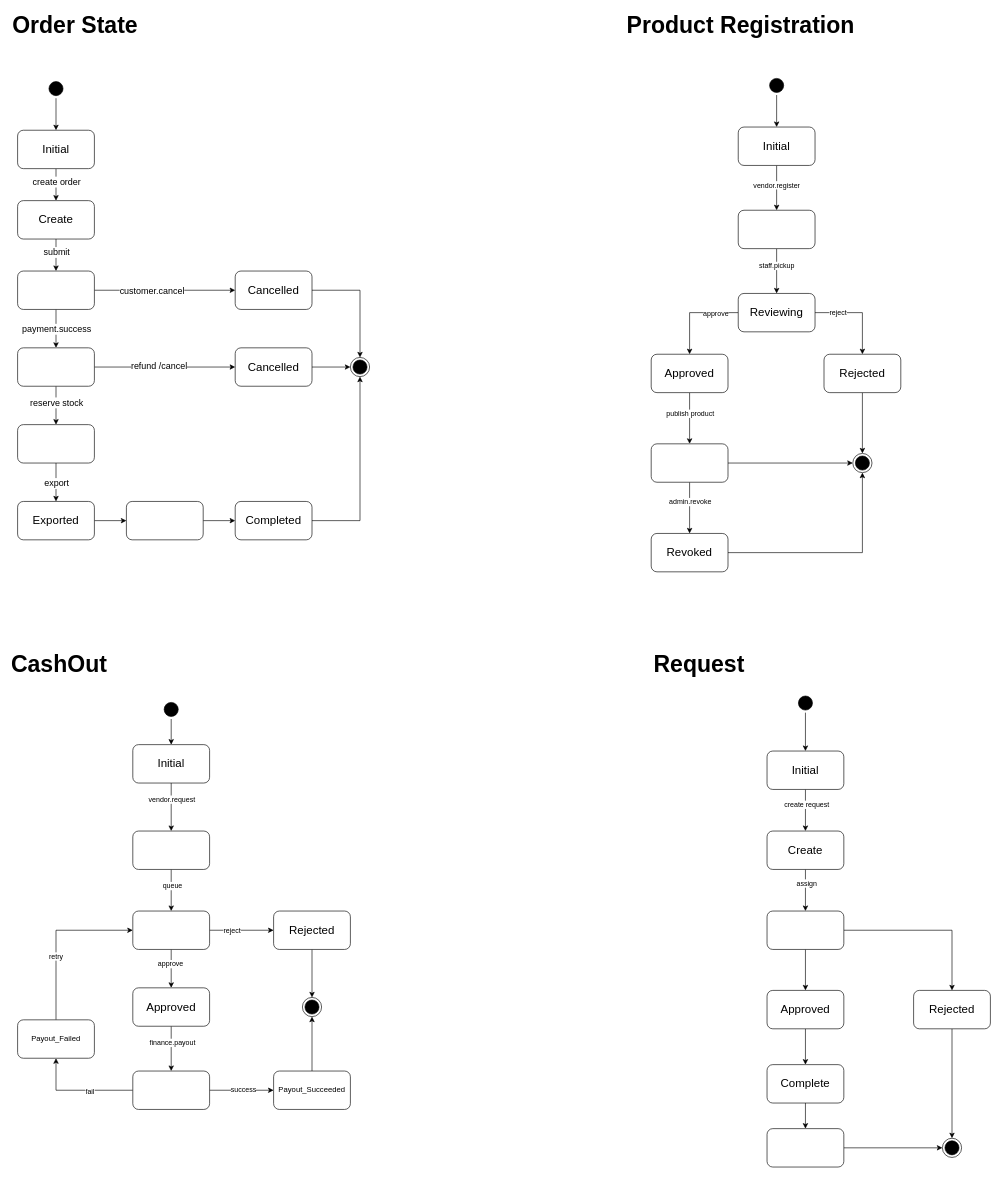
Image size: 1002x1178. Some labels were removed from this diagram. Here are the shapes that lost their labels. From the top down, the centre of each, then its label:
At pixel 776 229: "Submitted".
At pixel 55 289: "Payment_Pending".
At pixel 55 366: "Paid".
At pixel 55 443: "Allocated".
At pixel 689 462: "Published".
At pixel 164 520: "Delivered".
At pixel 171 849: "Requested".
At pixel 171 929: "Under_Review".
At pixel 805 929: "In_Progress".
At pixel 171 1089: "Payout_Processing".
At pixel 805 1147: "Closed".
